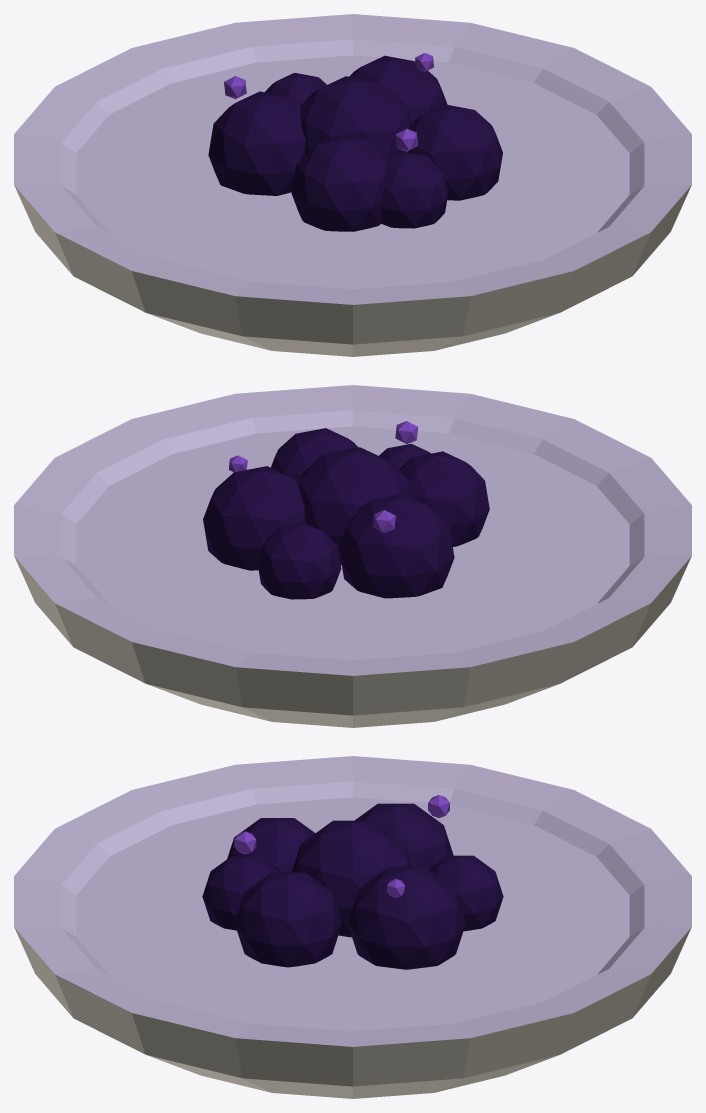
Rendered from Voidberry_Bowl.glb.
The picture shows the model from 3 angles, top to bottom: view 1: azimuth 30°, elevation 25°; view 2: azimuth 150°, elevation 25°; view 3: azimuth 270°, elevation 25°; orthographic projection.
Parts seen in each view (by area): view 1: _I_VoidberryBowl; view 2: _I_VoidberryBowl; view 3: _I_VoidberryBowl.
Part boxes in pixels (left/top/right/bottom): _I_VoidberryBowl: left=14, top=14, right=691, bottom=356; _I_VoidberryBowl: left=14, top=385, right=691, bottom=727; _I_VoidberryBowl: left=14, top=756, right=691, bottom=1098.
Bounding box in the file's own units: 0.64 × 0.2 × 0.6303.
